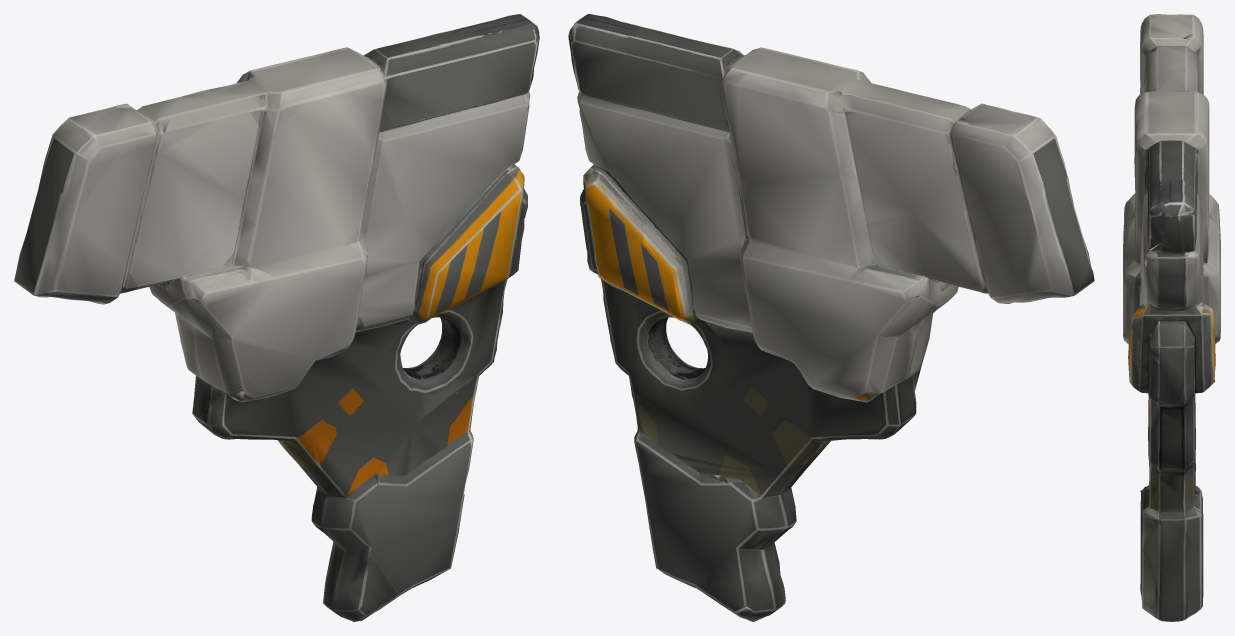
The model's file is 21_debris_torn_plate.fbx.
The picture shows the model from 3 angles, left to right: view 1: azimuth 30°, elevation 25°; view 2: azimuth 150°, elevation 25°; view 3: azimuth 270°, elevation 25°; orthographic projection. The views are drawn at different scales.
Parts seen in each view (by area): view 1: 21_debris_torn_plate; view 2: 21_debris_torn_plate; view 3: 21_debris_torn_plate.
Part boxes in pixels (left/top/right/bottom): 21_debris_torn_plate: left=14, top=14, right=539, bottom=621; 21_debris_torn_plate: left=568, top=14, right=1094, bottom=621; 21_debris_torn_plate: left=1123, top=14, right=1220, bottom=621.
Bounding box in the file's own units: 0.7674 × 0.8 × 0.147.
Materials: 1 (1 with a texture image).
